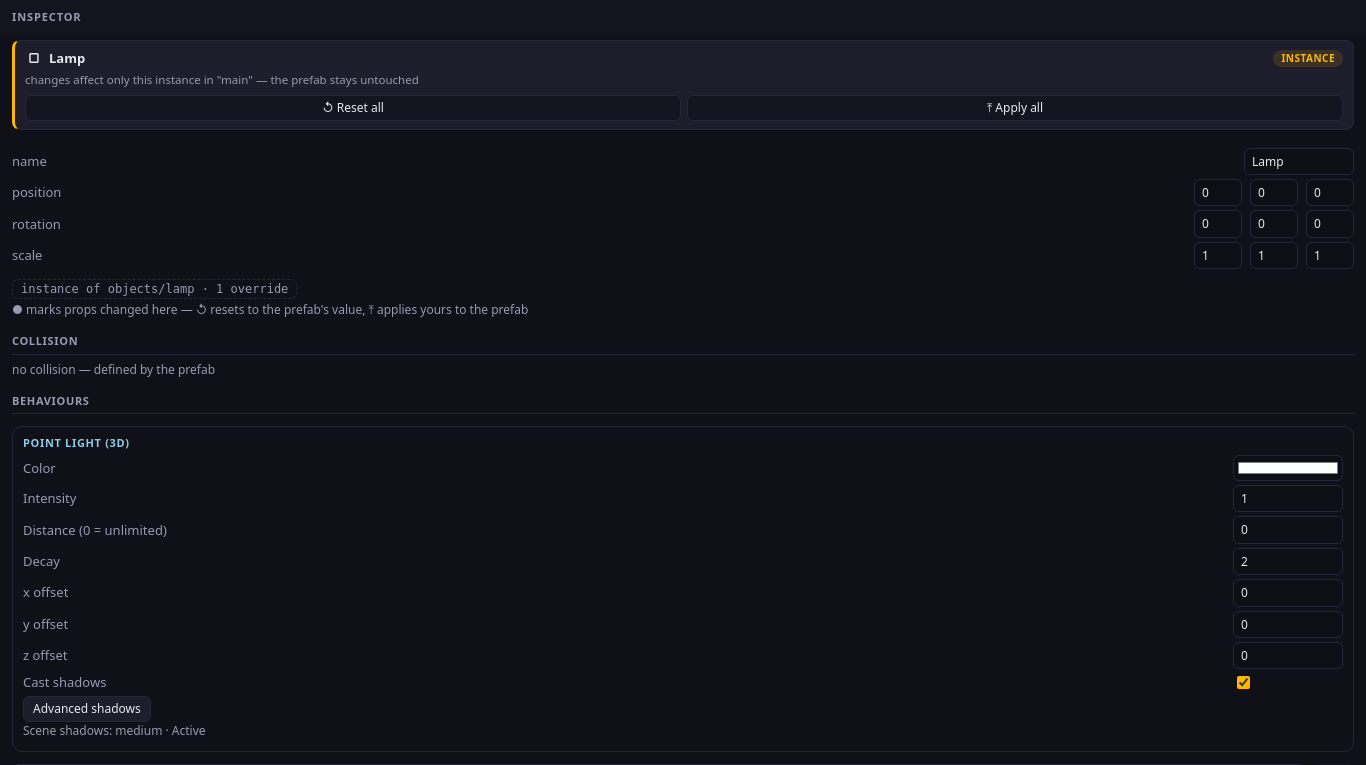
Test: reports a rejected bulk instance reset without an uncaught UI event error
The image size is (1366, 765).
Click the button "↺ Reset all" at (353, 108), box x1=25 y1=95 x2=681 y2=121
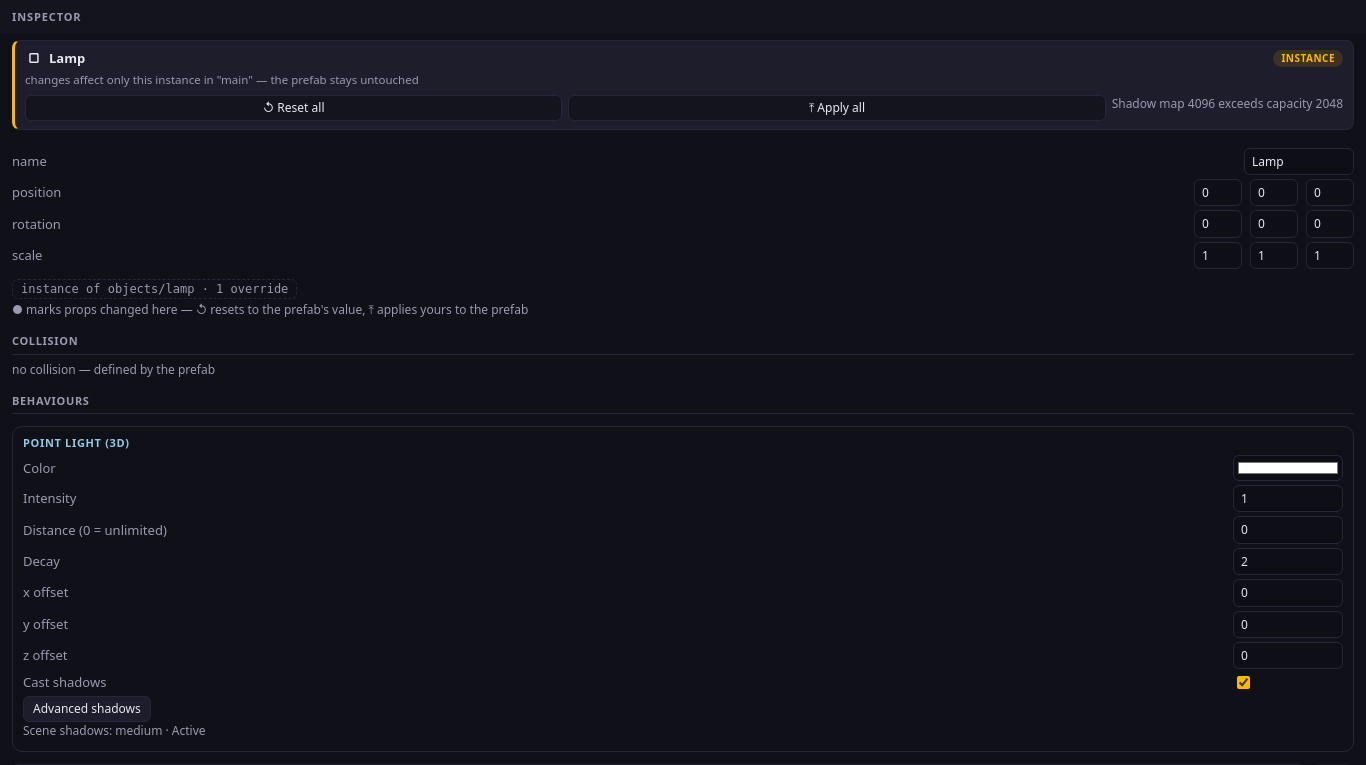
Expected: the message "Shadow map 4096 exceeds capacity 2048" is shown, x1=1112 y1=95 x2=1343 y2=121
